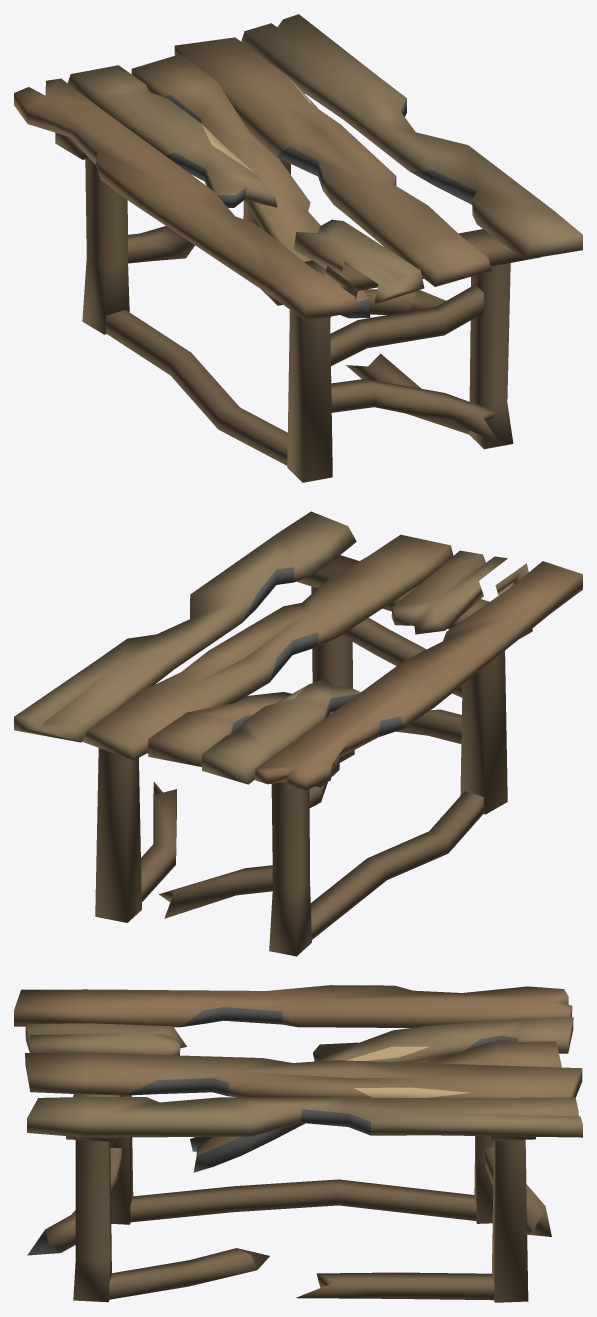
File: rpgpp_av_table_04a.gltf
3 renders of one model, top to bottom at view 1: azimuth 30°, elevation 25°; view 2: azimuth 150°, elevation 25°; view 3: azimuth 270°, elevation 25°, orthographic. The views are drawn at different scales.
Parts seen in each view (by area): view 1: rpgpp_av_table_04a; view 2: rpgpp_av_table_04a; view 3: rpgpp_av_table_04a.
Part boxes in pixels (bbox=[...]): rpgpp_av_table_04a: bbox=[14, 14, 582, 482]; rpgpp_av_table_04a: bbox=[14, 511, 582, 956]; rpgpp_av_table_04a: bbox=[14, 985, 582, 1302].
Size of the model in its own units: 0.012 by 0.00799 by 0.0203.
Materials: 1 (1 with a texture image).
